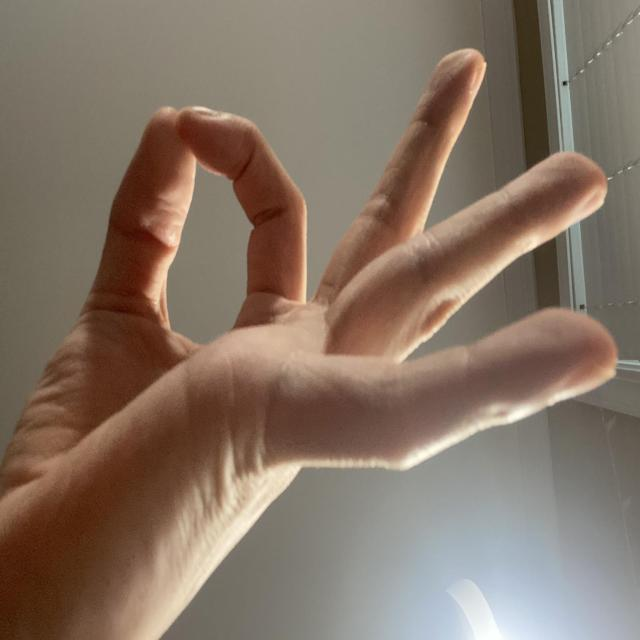F: (194, 21, 640, 640)
